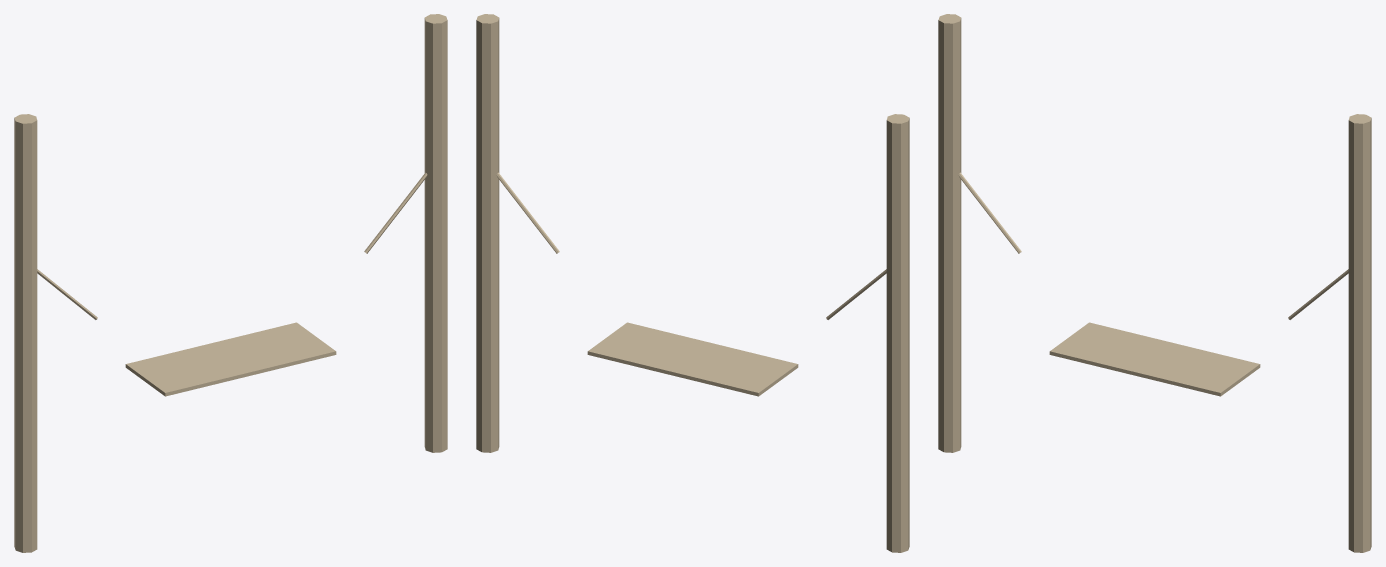
Rendered from hammock.glb.
3 renders of one model, left to right at view 1: azimuth 30°, elevation 25°; view 2: azimuth 150°, elevation 25°; view 3: azimuth 330°, elevation 25°, orthographic.
Visible parts, largest first — view 1: hammock; view 2: hammock; view 3: hammock.
Boxes of the visible parts, x1=… form: hammock: x1=14, y1=14, x2=447, y2=552; hammock: x1=476, y1=14, x2=909, y2=552; hammock: x1=938, y1=14, x2=1371, y2=552.
Size of the model in its own units: 1.26 by 1.2 by 0.2.
